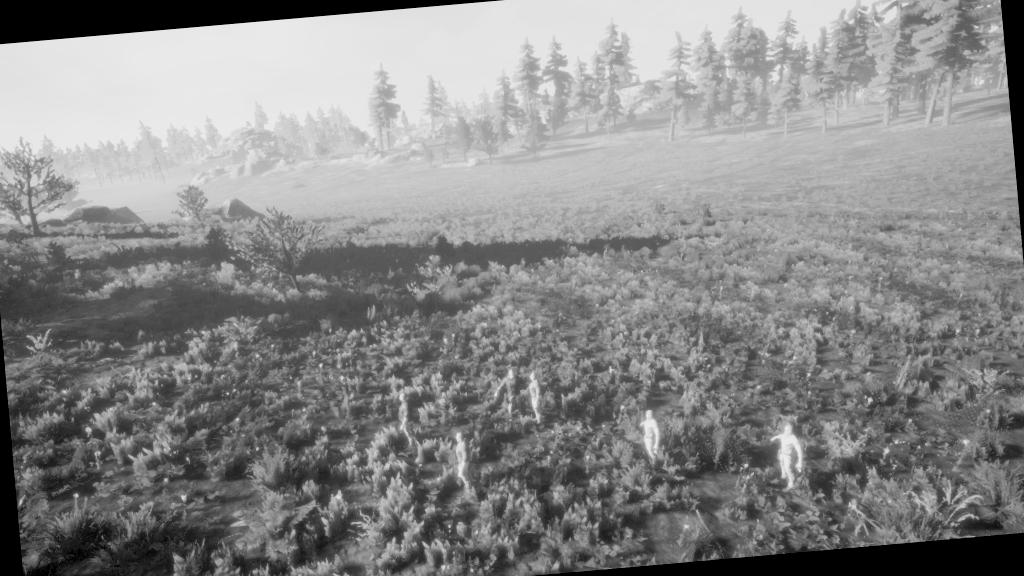human: (484, 357, 568, 436), (754, 408, 816, 504), (440, 418, 500, 512), (622, 398, 680, 480), (386, 376, 428, 459)
